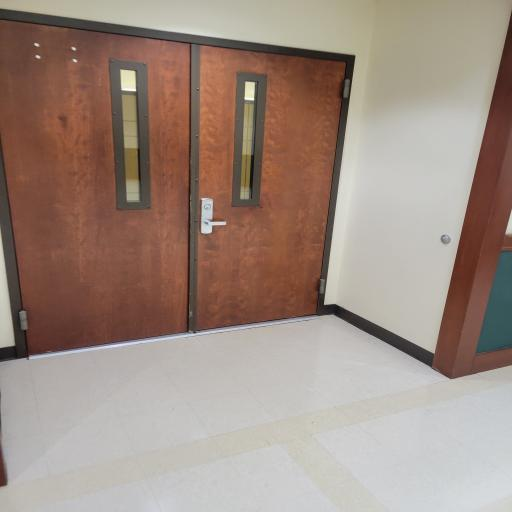doors: (0, 21, 356, 359)
